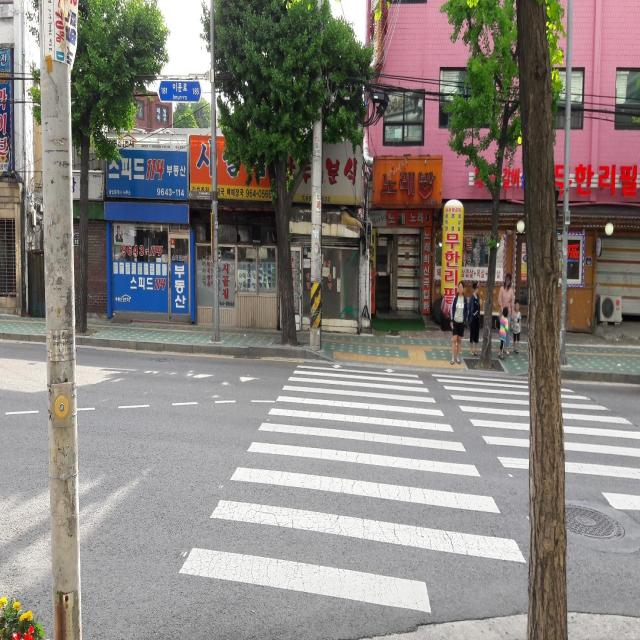횡단보도: (174, 359, 640, 622)
